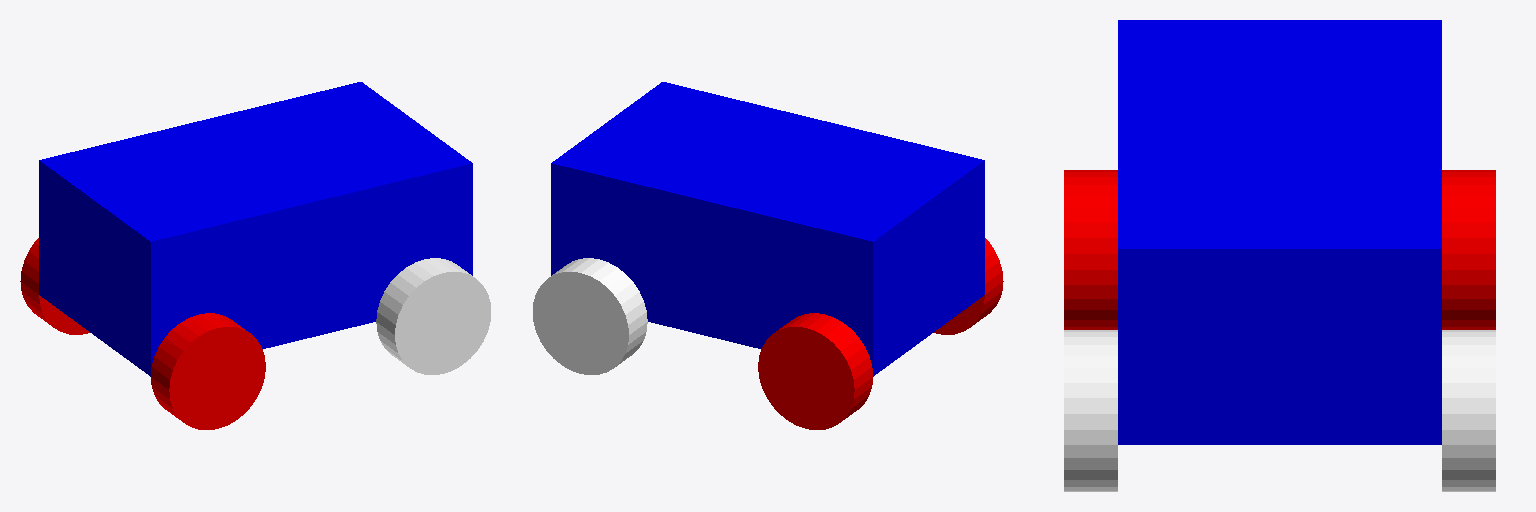
robot.urdf — ackermann:
<?xml version="1.0" ?>
<!-- =================================================================================== -->
<!-- |    This document was autogenerated by xacro from ackermann.xacro                | -->
<!-- |    EDITING THIS FILE BY HAND IS NOT RECOMMENDED                                 | -->
<!-- =================================================================================== -->
<robot name="ackermann">
  <link name="base_footprint">
    <visual>
      <origin rpy="0.0 0.0 0.0" xyz="0.0 0.0 0.0"/>
      <geometry>
        <sphere radius="0.001"/>
      </geometry>
      <material name="yellow">
        <color rgba="0.8 0.3 0.1 0.5"/>
      </material>
    </visual>
    <collision>
      <origin rpy="0.0 0.0 0.0" xyz="0.0 0.0 0.0"/>
      <geometry>
        <sphere radius="0"/>
      </geometry>
    </collision>
  </link>
  <link name="base_link">
    <inertial>
      <mass value="60"/>
      <inertia ixx="5.800000000000001" ixy="0" ixz="0" iyy="6.8" iyz="0" izz="2.6"/>
    </inertial>
    <visual>
      <origin rpy="0.0 0.0 0.0" xyz="0.0 0.0 0.0"/>
      <geometry>
        <box size="1.0 0.6 0.4"/>
      </geometry>
      <material name="blue">
        <color rgba="0 0 1.0 0.5"/>
      </material>
    </visual>
    <collision>
      <origin rpy="0.0 0.0 0.0" xyz="0.0 0.0 0.0"/>
      <geometry>
        <box size="0 0 0"/>
      </geometry>
    </collision>
  </link>
  <gazebo reference="base_link">
    <material>Gazebo/Blue</material>
  </gazebo>
  <joint name="base_link2base_footprint" type="fixed">
    <parent link="base_footprint"/>
    <child link="base_link"/>
    <origin rpy="0.0 0.0 0.0" xyz="0.0 0.0 0.351"/>
  </joint>
  <link name="left_front_steer_link">
    <visual>
      <geometry>
        <box size="0.05 0.2 0.05"/>
      </geometry>
      <origin rpy="0.0 0.0 0.0" xyz="0.0 0.0 0.0"/>
      <material name="white">
        <color rgba="1.0 1.0 1.0 0.5"/>
      </material>
    </visual>
    <collision>
      <origin rpy="0.0 0.0 0.0" xyz="0.0 0.0 0.0"/>
      <geometry>
        <box size="0.05 0.2 0.05"/>
      </geometry>
    </collision>
    <inertial>
      <mass value="1.5"/>
      <inertia ixx="0.0006250000000000001" ixy="0" ixz="0" iyy="0.005312500000000001" iyz="0" izz="0.005312500000000001"/>
    </inertial>
  </link>
  <gazebo reference="left_front_steer_link">
    <material>Gazebo/White</material>
  </gazebo>
  <joint name="left_front_steerlink2base_joint" type="revolute">
    <parent link="base_link"/>
    <child link="left_front_steer_link"/>
    <origin rpy="0.0 0.0 0.0" xyz="0.35 0.30000000000000004 -0.19999999999999998"/>
    <axis xyz="0 0 1"/>
    <dynamics damping="0.1"/>
    <limit effort="0" lower="-0.5235987666666666" upper="0.5235987666666666" velocity="3"/>
  </joint>
  <link name="left_front_wheel_link">
    <visual>
      <geometry>
        <cylinder length="0.1" radius="0.15"/>
      </geometry>
      <origin rpy="-1.5707963 0.0 0.0" xyz="0.0 0.0 0.0"/>
      <material name="white">
        <color rgba="1.0 1.0 1.0 0.5"/>
      </material>
    </visual>
    <collision>
      <geometry>
        <cylinder length="0.1" radius="0.15"/>
      </geometry>
      <origin rpy="-1.5707963 0.0 0.0" xyz="0.0 0.0 0.0"/>
    </collision>
    <inertial>
      <mass value="15"/>
      <inertia ixx="0.09687499999999999" ixy="0" ixz="0" iyy="0.09687499999999999" iyz="0" izz="0.16874999999999998"/>
    </inertial>
  </link>
  <gazebo reference="left_front_wheel_link">
    <material>Gazebo/White</material>
    <mu1>0.9</mu1>
    <mu2>0.6</mu2>
  </gazebo>
  <joint name="left_frontwheel2steerlink_joint" type="continuous">
    <parent link="left_front_steer_link"/>
    <child link="left_front_wheel_link"/>
    <origin rpy="0.0 0.0 0.0" xyz="0.0 0.04999999999999999 0.0"/>
    <axis xyz="0 1 0"/>
  </joint>
  <transmission name="left_steer_trans">
    <type>transmission_interface/SimpleTransmission</type>
    <joint name="left_front_steerlink2base_joint">
      <hardwareInterface>hardware_interface/PositionJointInterface</hardwareInterface>
    </joint>
    <actuator name="left_steer_actuator">
      <mechanicalReduction>1.0</mechanicalReduction>
      <hardwareInterface>hardware_interface/PositionJointInterface</hardwareInterface>
    </actuator>
  </transmission>
  <link name="right_front_steer_link">
    <visual>
      <geometry>
        <box size="0.05 0.2 0.05"/>
      </geometry>
      <origin rpy="0.0 0.0 0.0" xyz="0.0 0.0 0.0"/>
      <material name="white">
        <color rgba="1.0 1.0 1.0 0.5"/>
      </material>
    </visual>
    <collision>
      <origin rpy="0.0 0.0 0.0" xyz="0.0 0.0 0.0"/>
      <geometry>
        <box size="0.05 0.2 0.05"/>
      </geometry>
    </collision>
    <inertial>
      <mass value="1.5"/>
      <inertia ixx="0.0006250000000000001" ixy="0" ixz="0" iyy="0.005312500000000001" iyz="0" izz="0.005312500000000001"/>
    </inertial>
  </link>
  <gazebo reference="right_front_steer_link">
    <material>Gazebo/White</material>
  </gazebo>
  <joint name="right_front_steerlink2base_joint" type="revolute">
    <parent link="base_link"/>
    <child link="right_front_steer_link"/>
    <origin rpy="0.0 0.0 0.0" xyz="0.35 -0.30000000000000004 -0.19999999999999998"/>
    <axis xyz="0 0 1"/>
    <dynamics damping="0.1"/>
    <limit effort="0" lower="-0.5235987666666666" upper="0.5235987666666666" velocity="3"/>
  </joint>
  <link name="right_front_wheel_link">
    <visual>
      <geometry>
        <cylinder length="0.1" radius="0.15"/>
      </geometry>
      <origin rpy="-1.5707963 0.0 0.0" xyz="0.0 0.0 0.0"/>
      <material name="white">
        <color rgba="1.0 1.0 1.0 0.5"/>
      </material>
    </visual>
    <collision>
      <geometry>
        <cylinder length="0.1" radius="0.15"/>
      </geometry>
      <origin rpy="-1.5707963 0.0 0.0" xyz="0.0 0.0 0.0"/>
    </collision>
    <inertial>
      <mass value="15"/>
      <inertia ixx="0.09687499999999999" ixy="0" ixz="0" iyy="0.09687499999999999" iyz="0" izz="0.16874999999999998"/>
    </inertial>
  </link>
  <gazebo reference="right_front_wheel_link">
    <material>Gazebo/White</material>
    <mu1>0.9</mu1>
    <mu2>0.6</mu2>
  </gazebo>
  <joint name="right_frontwheel2steerlink_joint" type="continuous">
    <parent link="right_front_steer_link"/>
    <child link="right_front_wheel_link"/>
    <origin rpy="0.0 0.0 0.0" xyz="0.0 -0.04999999999999999 0.0"/>
    <axis xyz="0 1 0"/>
  </joint>
  <transmission name="right_steer_trans">
    <type>transmission_interface/SimpleTransmission</type>
    <joint name="right_front_steerlink2base_joint">
      <hardwareInterface>hardware_interface/PositionJointInterface</hardwareInterface>
    </joint>
    <actuator name="right_steer_actuator">
      <mechanicalReduction>1.0</mechanicalReduction>
      <hardwareInterface>hardware_interface/PositionJointInterface</hardwareInterface>
    </actuator>
  </transmission>
  <link name="left_rear_steer_link">
    <visual>
      <geometry>
        <box size="0.05 0.2 0.05"/>
      </geometry>
      <origin rpy="0.0 0.0 0.0" xyz="0.0 0.0 0.0"/>
      <material name="red">
        <color rgba="1.0 0.0 0.0 0.5"/>
      </material>
    </visual>
    <collision>
      <origin rpy="0.0 0.0 0.0" xyz="0.0 0.0 0.0"/>
      <geometry>
        <box size="0.05 0.2 0.05"/>
      </geometry>
    </collision>
    <inertial>
      <mass value="1.5"/>
      <inertia ixx="0.0006250000000000001" ixy="0" ixz="0" iyy="0.005312500000000001" iyz="0" izz="0.005312500000000001"/>
    </inertial>
  </link>
  <gazebo reference="left_rear_steer_link">
    <material>Gazebo/Red</material>
  </gazebo>
  <joint name="left_rear_steerlink2base_joint" type="fixed">
    <parent link="base_link"/>
    <child link="left_rear_steer_link"/>
    <origin rpy="0.0 0.0 0.0" xyz="-0.35 0.30000000000000004 -0.19999999999999998"/>
  </joint>
  <link name="left_rear_wheel_link">
    <visual>
      <geometry>
        <cylinder length="0.1" radius="0.15"/>
      </geometry>
      <origin rpy="-1.5707963 0.0 0.0" xyz="0.0 0.0 0.0"/>
      <material name="red">
        <color rgba="1.0 0.0 0.0 0.5"/>
      </material>
    </visual>
    <collision>
      <geometry>
        <cylinder length="0.1" radius="0.15"/>
      </geometry>
      <origin rpy="-1.5707963 0.0 0.0" xyz="0.0 0.0 0.0"/>
    </collision>
    <inertial>
      <mass value="15"/>
      <inertia ixx="0.09687499999999999" ixy="0" ixz="0" iyy="0.09687499999999999" iyz="0" izz="0.16874999999999998"/>
    </inertial>
  </link>
  <gazebo reference="left_rear_wheel_link">
    <material>Gazebo/Red</material>
    <mu1>0.9</mu1>
    <mu2>0.6</mu2>
  </gazebo>
  <joint name="left_rearwheel2steerlink_joint" type="continuous">
    <parent link="left_rear_steer_link"/>
    <child link="left_rear_wheel_link"/>
    <origin rpy="0.0 0.0 0.0" xyz="0.0 0.04999999999999999 0.0"/>
    <axis xyz="0 1 0"/>
  </joint>
  <transmission name="left_rear_wheel_trans">
    <type>transmission_interface/SimpleTransmission</type>
    <joint name="left_rearwheel2steerlink_joint">
      <hardwareInterface>hardware_interface/VelocityJointInterface</hardwareInterface>
    </joint>
    <actuator name="left_rear_wheel_actuator">
      <mechanicalReduction>1.0</mechanicalReduction>
      <hardwareInterface>hardware_interface/VelocityJointInterface</hardwareInterface>
    </actuator>
  </transmission>
  <link name="right_rear_steer_link">
    <visual>
      <geometry>
        <box size="0.05 0.2 0.05"/>
      </geometry>
      <origin rpy="0.0 0.0 0.0" xyz="0.0 0.0 0.0"/>
      <material name="red">
        <color rgba="1.0 0.0 0.0 0.5"/>
      </material>
    </visual>
    <collision>
      <origin rpy="0.0 0.0 0.0" xyz="0.0 0.0 0.0"/>
      <geometry>
        <box size="0.05 0.2 0.05"/>
      </geometry>
    </collision>
    <inertial>
      <mass value="1.5"/>
      <inertia ixx="0.0006250000000000001" ixy="0" ixz="0" iyy="0.005312500000000001" iyz="0" izz="0.005312500000000001"/>
    </inertial>
  </link>
  <gazebo reference="right_rear_steer_link">
    <material>Gazebo/Red</material>
  </gazebo>
  <joint name="right_rear_steerlink2base_joint" type="fixed">
    <parent link="base_link"/>
    <child link="right_rear_steer_link"/>
    <origin rpy="0.0 0.0 0.0" xyz="-0.35 -0.30000000000000004 -0.19999999999999998"/>
  </joint>
  <link name="right_rear_wheel_link">
    <visual>
      <geometry>
        <cylinder length="0.1" radius="0.15"/>
      </geometry>
      <origin rpy="-1.5707963 0.0 0.0" xyz="0.0 0.0 0.0"/>
      <material name="red">
        <color rgba="1.0 0.0 0.0 0.5"/>
      </material>
    </visual>
    <collision>
      <geometry>
        <cylinder length="0.1" radius="0.15"/>
      </geometry>
      <origin rpy="-1.5707963 0.0 0.0" xyz="0.0 0.0 0.0"/>
    </collision>
    <inertial>
      <mass value="15"/>
      <inertia ixx="0.09687499999999999" ixy="0" ixz="0" iyy="0.09687499999999999" iyz="0" izz="0.16874999999999998"/>
    </inertial>
  </link>
  <gazebo reference="right_rear_wheel_link">
    <material>Gazebo/Red</material>
    <mu1>0.9</mu1>
    <mu2>0.6</mu2>
  </gazebo>
  <joint name="right_rearwheel2steerlink_joint" type="continuous">
    <parent link="right_rear_steer_link"/>
    <child link="right_rear_wheel_link"/>
    <origin rpy="0.0 0.0 0.0" xyz="0.0 -0.04999999999999999 0.0"/>
    <axis xyz="0 1 0"/>
  </joint>
  <transmission name="right_rear_wheel_trans">
    <type>transmission_interface/SimpleTransmission</type>
    <joint name="right_rearwheel2steerlink_joint">
      <hardwareInterface>hardware_interface/VelocityJointInterface</hardwareInterface>
    </joint>
    <actuator name="right_rear_wheel_actuator">
      <mechanicalReduction>1.0</mechanicalReduction>
      <hardwareInterface>hardware_interface/VelocityJointInterface</hardwareInterface>
    </actuator>
  </transmission>
  <gazebo>
    <plugin filename="libgazebo_ros_control.so" name="gazebo_ros_control">
      <robotNamespace>ackermann_base_final</robotNamespace>
      <robotParam>robot_description</robotParam>
      <robotSimType>gazebo_ros_control/DefaultRobotHWSim</robotSimType>
      <legacyModeNS>true</legacyModeNS>
      <robotBaseFrame>base_footprint</robotBaseFrame>
    </plugin>
  </gazebo>
  <gazebo reference="base_footprint">
    <turnGravityOff>true</turnGravityOff>
  </gazebo>
  <gazebo reference="base_link">
    <gravity>true</gravity>
    <sensor name="imu_sensor" type="imu">
      <always_on>true</always_on>
      <update_rate>100</update_rate>
      <visualize>true</visualize>
      <topic>__default_topic__</topic>
      <plugin filename="libgazebo_ros_imu_sensor.so" name="imu_plugin">
        <robotNamespace>ackermann_base_final</robotNamespace>
        <topicName>imu</topicName>
        <appendRobotNamespace>false</appendRobotNamespace>
        <bodyName>base_link</bodyName>
        <updateRateHZ>100.0</updateRateHZ>
        <gaussianNoise>0.0</gaussianNoise>
        <xyzOffset>0 0 0</xyzOffset>
        <rpyOffset>0 0 0</rpyOffset>
        <frameName>imu_link</frameName>
      </plugin>
      <pose>0 0 0 0 0 0</pose>
    </sensor>
  </gazebo>
</robot>

--- What the picture shows (computed from the rendered views, not written in the file) ---
The picture shows the robot from 3 angles, left to right: view 1: azimuth 30°, elevation 25°; view 2: azimuth 150°, elevation 25°; view 3: azimuth 270°, elevation 25°; orthographic projection.
Model ackermann with 10 links and 9 joints (2 revolute, 4 continuous, 3 fixed), rooted at base_footprint, posed all joints at 0.
Links seen in each view (by area): view 1: base_link, right_front_wheel_link, right_rear_wheel_link, left_rear_wheel_link; view 2: base_link, left_rear_wheel_link, left_front_wheel_link, right_rear_wheel_link; view 3: base_link, left_front_wheel_link, right_front_wheel_link, left_rear_wheel_link, right_rear_wheel_link.
Boxes of the visible links, bbox=[...] form: base_link: bbox=[39, 82, 472, 376]; right_front_wheel_link: bbox=[376, 258, 490, 374]; right_rear_wheel_link: bbox=[151, 313, 265, 429]; left_rear_wheel_link: bbox=[20, 238, 89, 334]; base_link: bbox=[551, 82, 984, 376]; left_rear_wheel_link: bbox=[758, 313, 872, 429]; left_front_wheel_link: bbox=[533, 258, 647, 374]; right_rear_wheel_link: bbox=[934, 238, 1003, 334]; base_link: bbox=[1118, 20, 1441, 444]; left_front_wheel_link: bbox=[1442, 330, 1495, 491]; right_front_wheel_link: bbox=[1064, 330, 1117, 491]; left_rear_wheel_link: bbox=[1442, 170, 1495, 329]; right_rear_wheel_link: bbox=[1064, 170, 1117, 329].
Bounding box of the posed robot: 1 × 0.8 × 0.552 m (x, y, z).
Geometry: primitives only (box / cylinder / sphere), no mesh files.
